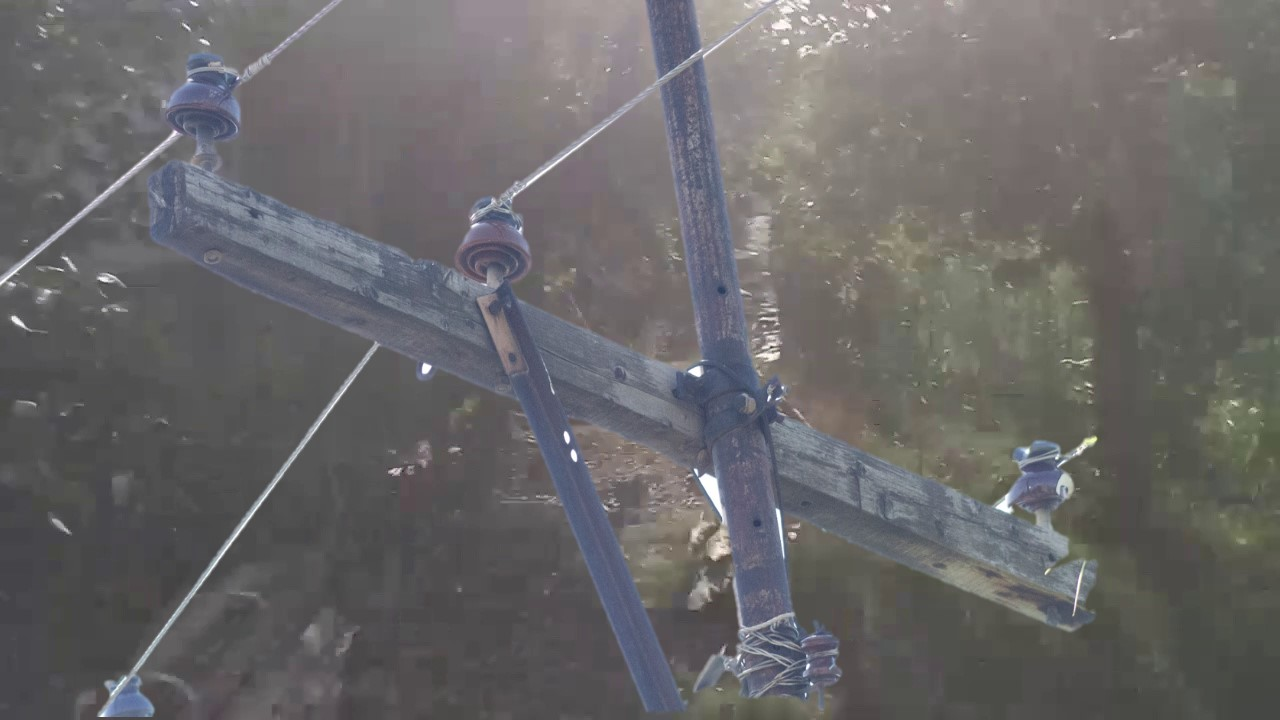defect_pin: (1005, 429, 1083, 518)
insulator_pin: (449, 192, 535, 291), (164, 49, 246, 144)
